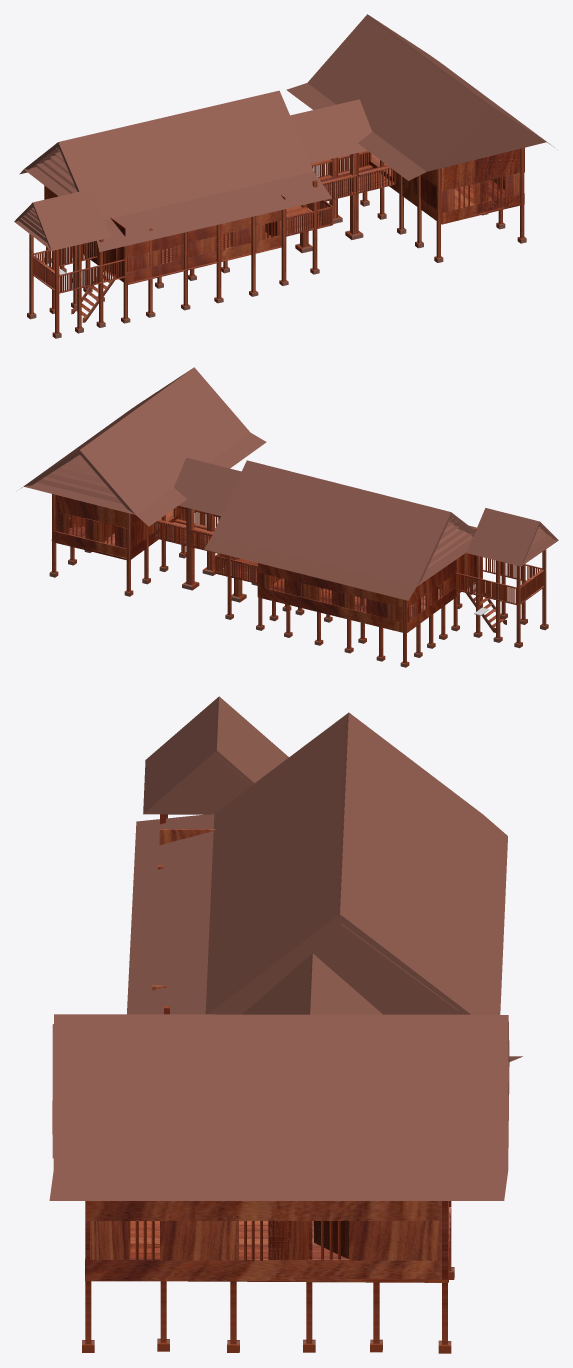
Rendered from Rumah_Adat_Mandar(1).glb.
The picture shows the model from 3 angles, top to bottom: view 1: azimuth 30°, elevation 25°; view 2: azimuth 150°, elevation 25°; view 3: azimuth 270°, elevation 25°; orthographic projection. The views are drawn at different scales.
Parts seen in each view (by area): view 1: Cube.006, Cube.271, Cube.254, Cube.005, Cube.287, Cube.298, Cube.299, Cube.291, Cube.352, Kubus.045, Cube.282, Cube.300 (+16 smaller); view 2: Cube.006, Cube.271, Cube.254, Cube.005, Cube.293, Cube.292, Cube.002, Cube.283, Cube.001, Kubus.043, Cube.004, Cube.297 (+11 smaller); view 3: Cube.271, Cube.006, Cube.254, Cube.272, Cube, Cube.005, Cube.278, Cube.275, Cube.352, Cube.276, Cube.277, Kubus.047 (+1 smaller).
Part boxes in pixels (<box>): Cube.006: <box>19,90,331,251</box>; Cube.271: <box>286,14,554,180</box>; Cube.254: <box>14,189,110,250</box>; Cube.005: <box>290,99,371,163</box>; Cube.287: <box>441,149,520,191</box>; Cube.298: <box>125,210,281,258</box>; Cube.299: <box>125,235,281,284</box>; Cube.291: <box>441,194,520,224</box>; Cube.352: <box>371,153,520,218</box>; Kubus.045: <box>345,152,363,239</box>; Cube.282: <box>393,170,436,209</box>; Cube.300: <box>172,236,216,261</box>; Cube.006: <box>204,460,476,600</box>; Cube.271: <box>20,367,266,526</box>; Cube.254: <box>466,508,558,566</box>; Cube.005: <box>174,457,241,515</box>; Cube.293: <box>257,587,402,632</box>; Cube.292: <box>258,563,402,607</box>; Cube.002: <box>55,495,126,527</box>; Cube.283: <box>52,531,126,559</box>; Cube.001: <box>405,559,456,608</box>; Kubus.043: <box>182,507,199,590</box>; Cube.004: <box>406,587,456,633</box>; Cube.297: <box>366,599,402,621</box>; Cube.271: <box>49,1014,522,1200</box>; Cube.006: <box>127,712,507,1014</box>; Cube.254: <box>143,696,288,814</box>; Cube.272: <box>85,1259,441,1281</box>; Cube: <box>85,1201,441,1220</box>; Cube.005: <box>242,953,382,1014</box>; Cube.278: <box>349,1221,441,1260</box>; Cube.275: <box>160,1221,238,1260</box>; Cube.352: <box>130,1207,451,1282</box>; Cube.276: <box>90,1221,130,1259</box>; Cube.277: <box>268,1221,308,1259</box>; Kubus.047: <box>438,1201,451,1353</box>.
Bounding box in the file's own units: 318 × 100 × 144.
Materials: 2 (2 with a texture image).
